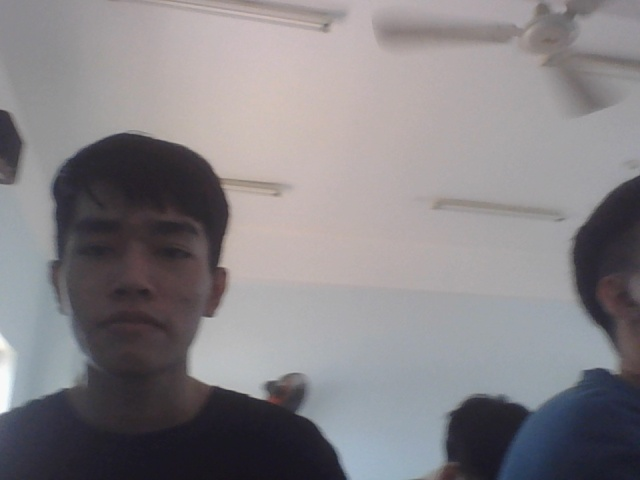real: (43, 119, 238, 396)
